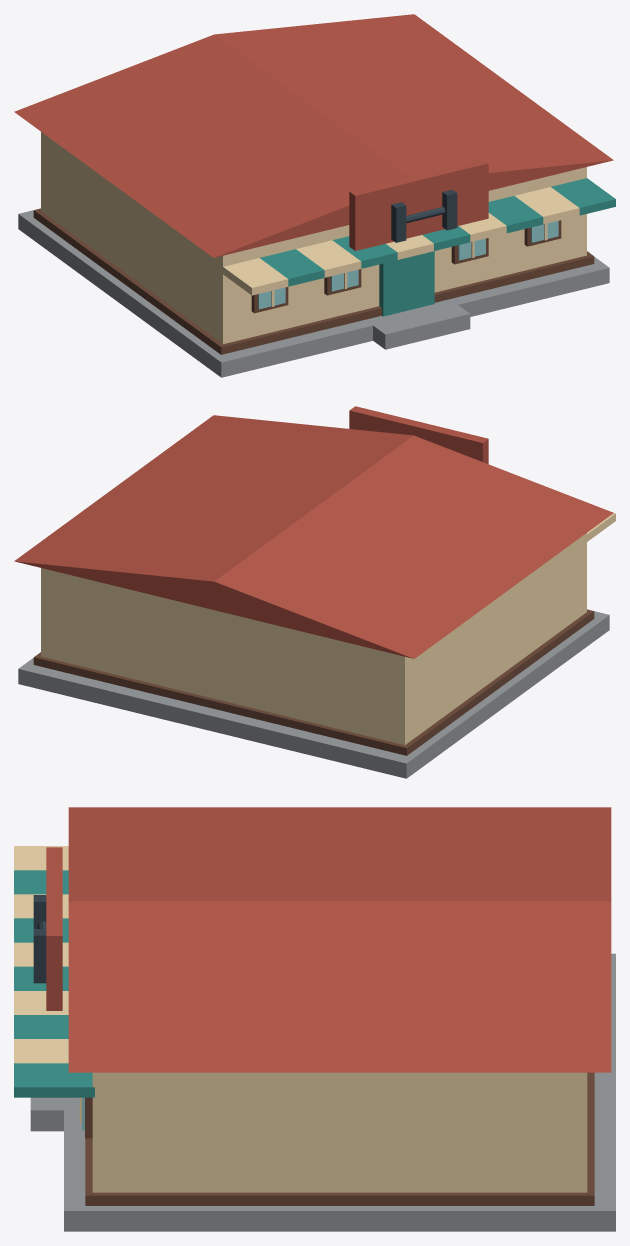
Rendered from gym.glb.
The picture shows the model from 3 angles, top to bottom: view 1: azimuth 30°, elevation 25°; view 2: azimuth 150°, elevation 25°; view 3: azimuth 270°, elevation 25°; orthographic projection. The views are drawn at different scales.
Parts seen in each view (by area): view 1: gable_roof, walls, foundation, signboard, cornice, step, door, awning, awning.002, awning.001, awning.008, awning.009 (+7 smaller); view 2: gable_roof, walls, foundation, cornice, signboard; view 3: gable_roof, walls, foundation, cornice, signboard, awning.009, awning.008, awning.007, step, awning, awning.006, awning.001 (+5 smaller).
Part boxes in pixels (box(x1,y1,x2,y2)): gable_roof: box(14, 14, 613, 257); walls: box(41, 132, 586, 344); foundation: box(18, 210, 609, 377); signboard: box(349, 159, 488, 250); cornice: box(33, 208, 594, 354); step: box(366, 299, 470, 349); door: box(379, 251, 434, 316); awning: box(222, 258, 288, 295); awning.002: box(296, 240, 361, 277); awning.001: box(260, 249, 324, 286); awning.008: box(514, 187, 579, 224); awning.009: box(551, 178, 615, 215); gable_roof: box(14, 415, 613, 658); walls: box(41, 533, 586, 745); foundation: box(18, 611, 609, 778); cornice: box(33, 609, 594, 755); signboard: box(349, 406, 488, 464); gable_roof: box(68, 807, 611, 1072); walls: box(92, 1072, 587, 1192); foundation: box(64, 953, 615, 1231); cornice: box(85, 1072, 594, 1205); signboard: box(46, 847, 62, 1010); awning.009: box(14, 1063, 94, 1097); awning.008: box(14, 1039, 68, 1063); awning.007: box(14, 1015, 68, 1038); step: box(30, 1097, 78, 1131); awning: box(14, 846, 68, 870); awning.006: box(14, 991, 68, 1014); awning.001: box(14, 870, 68, 894).
Size of the model in its own units: 6.6 by 2.45 by 6.33.
